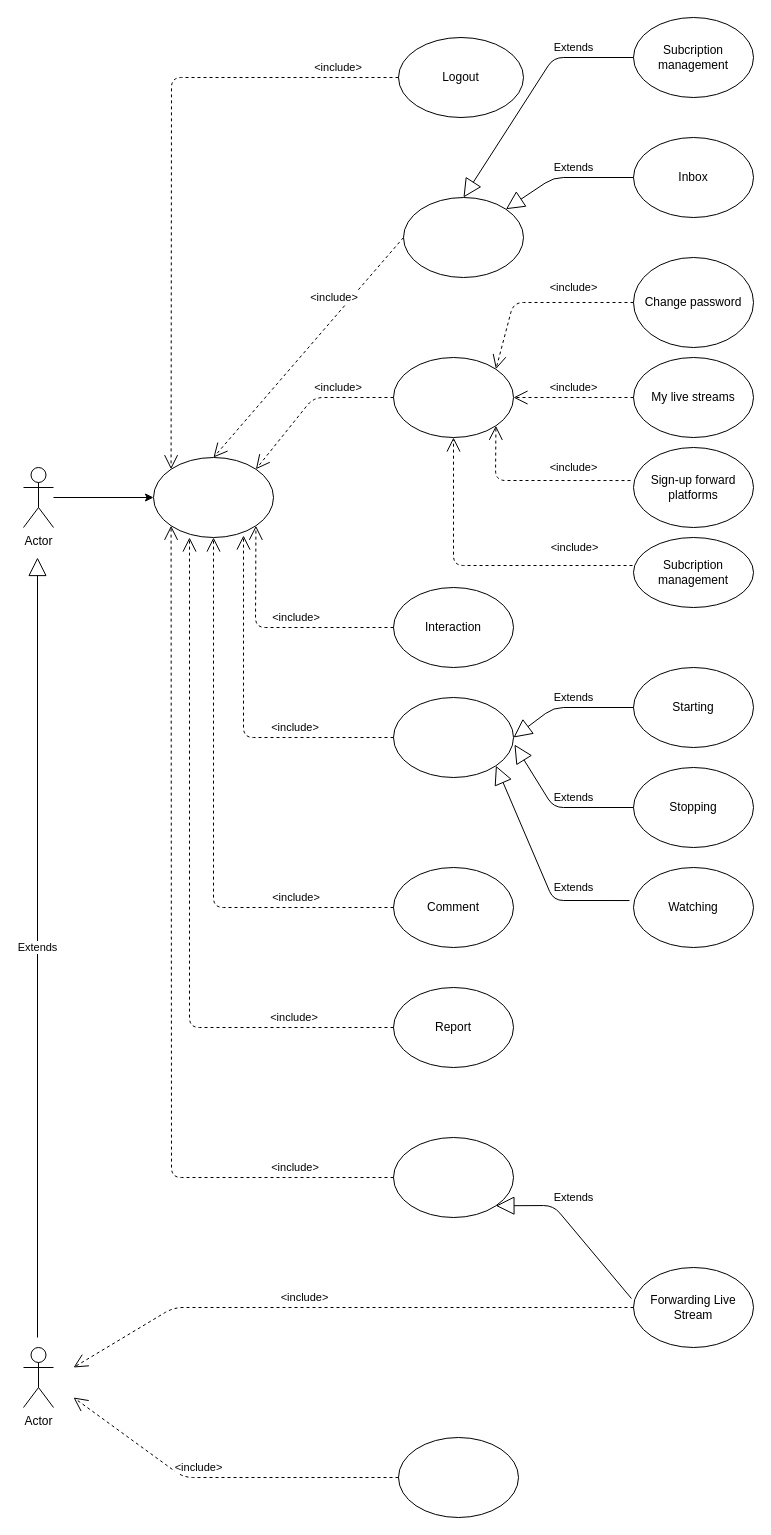
The diagram is 771 pixels wide and 1535 high, and some of its shapes have lost their labels. The shapes that lost their labels are listed below. From the top down, each one's centre as x and y in pixels, then its label:
At point 463,237: "Subcribe".
At point 453,397: "Account management".
At point 213,497: "Login".
At point 453,737: "Live Stream".
At point 453,1177: "Create Live Stream".
At point 458,1477: "Pay For Ranking".
